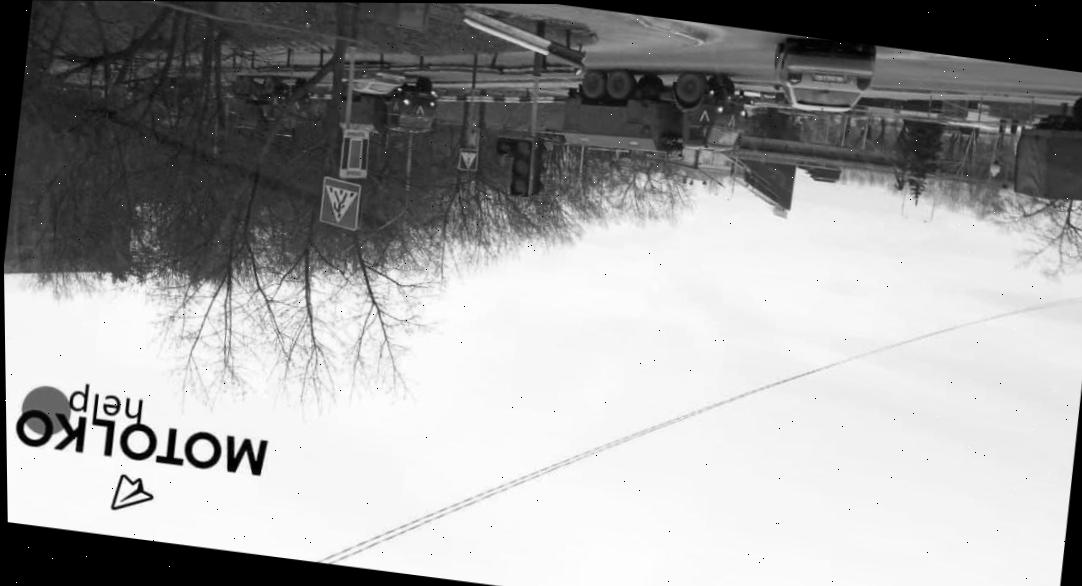car: (769, 32, 885, 117), (340, 53, 403, 97)
truck: (546, 45, 756, 174), (1009, 78, 1082, 206), (219, 66, 318, 143), (332, 80, 443, 136)
